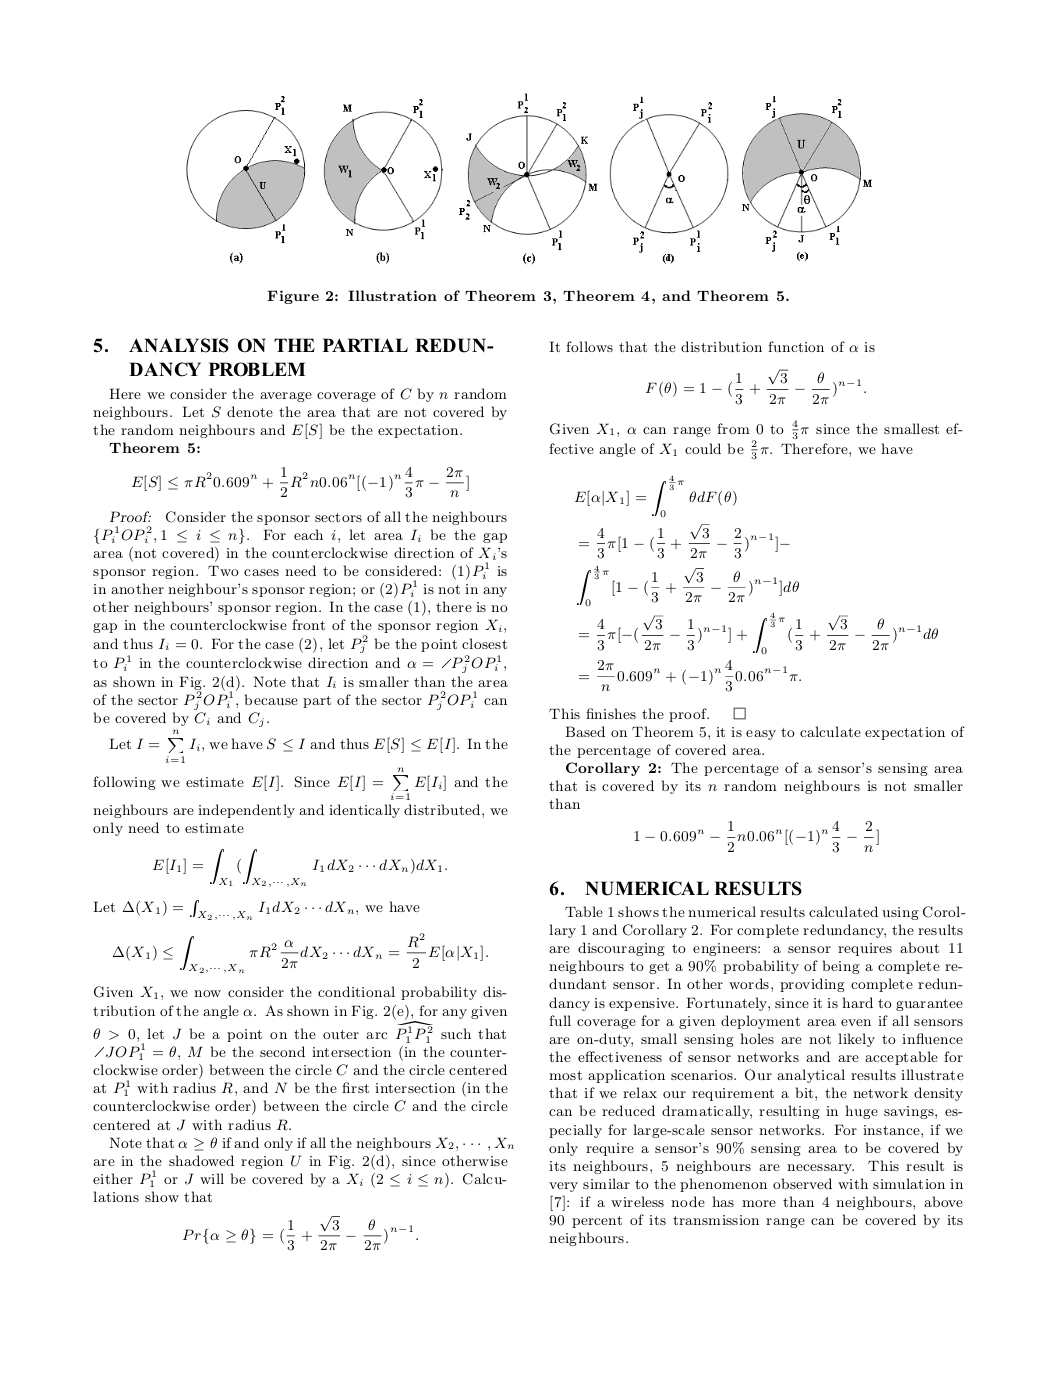figure: (459, 92, 597, 250), (742, 96, 872, 254), (609, 96, 728, 255), (186, 96, 305, 253), (323, 99, 440, 238)
formula: (580, 611, 937, 655), (111, 932, 487, 973), (152, 848, 446, 887), (132, 465, 468, 498), (577, 564, 798, 607), (182, 1215, 417, 1252), (645, 368, 865, 405), (580, 522, 789, 559), (634, 820, 878, 853), (580, 659, 800, 692), (574, 474, 736, 518), (93, 899, 419, 921)
